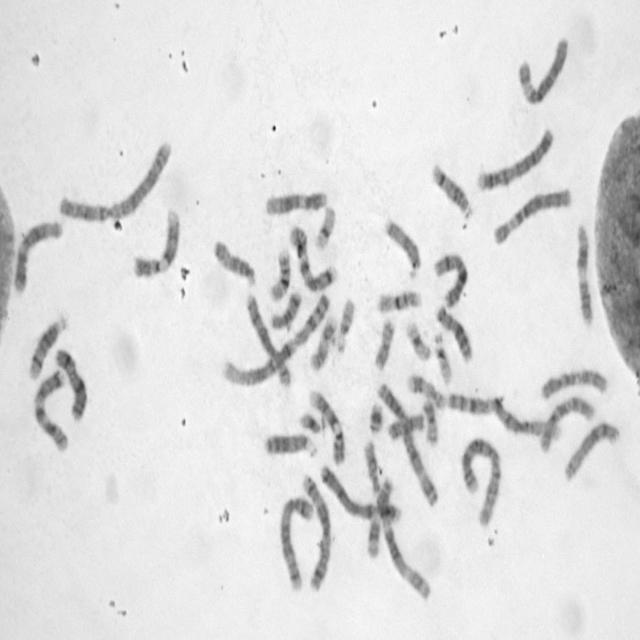A1: (217, 290, 335, 390), (443, 388, 561, 445)
A2: (55, 137, 174, 226), (458, 434, 502, 529)
A3: (375, 377, 439, 507), (376, 475, 432, 602)
B4: (474, 124, 555, 194), (318, 461, 401, 525)
B5: (300, 469, 332, 593), (277, 492, 315, 592)
C10: (537, 391, 596, 453), (538, 365, 609, 402)
C11: (362, 438, 384, 561), (574, 220, 595, 326)
C12: (13, 218, 67, 292), (262, 186, 328, 216)
C6: (490, 183, 572, 248), (514, 32, 569, 109)
C7: (287, 222, 338, 294), (30, 366, 71, 453)
C8: (245, 297, 293, 386), (562, 417, 620, 484)
C9: (130, 204, 182, 280), (307, 386, 346, 467)
D13: (433, 301, 474, 364), (261, 429, 318, 460)
D14: (26, 312, 72, 382), (428, 159, 472, 220)
D15: (382, 213, 422, 277), (211, 245, 258, 287)
E16: (267, 246, 292, 304), (375, 286, 423, 314)
E17: (307, 312, 339, 374), (405, 370, 447, 411)
E18: (267, 286, 303, 332), (384, 410, 426, 442)
F19: (404, 317, 432, 363), (313, 201, 337, 252)
F20: (372, 314, 397, 372), (421, 395, 439, 448)
G21: (297, 408, 326, 435), (367, 399, 385, 435)
G22: (431, 329, 453, 386), (336, 295, 356, 355)
X: (53, 343, 88, 422), (432, 249, 469, 310)
